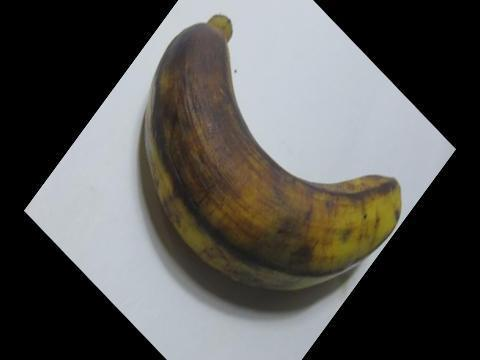overripe: (140, 4, 412, 294)
